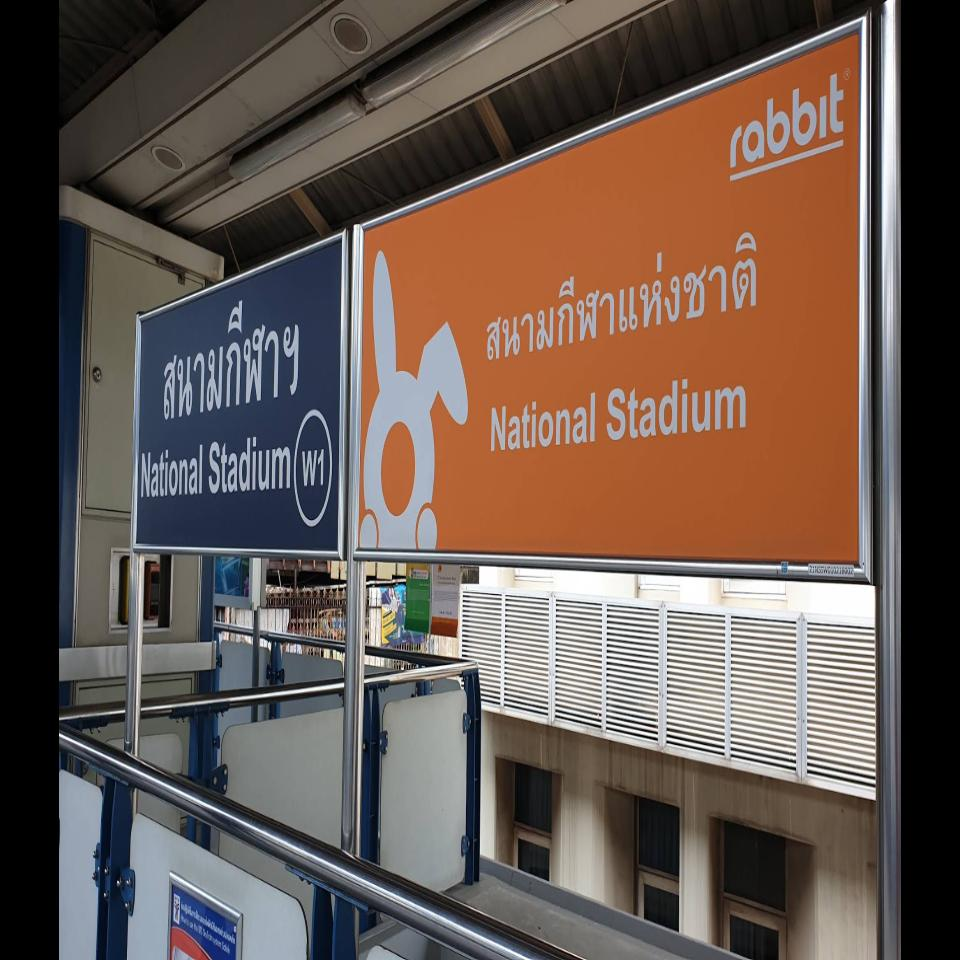signage: (352, 8, 877, 586), (132, 228, 350, 560)
